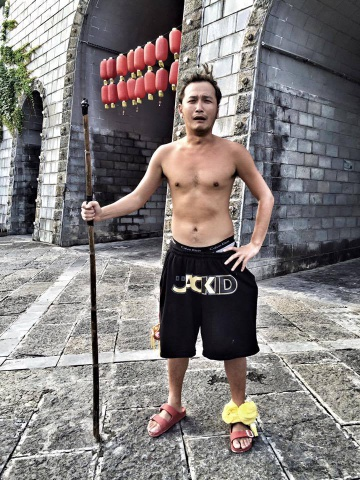male: (167, 66, 243, 150)
